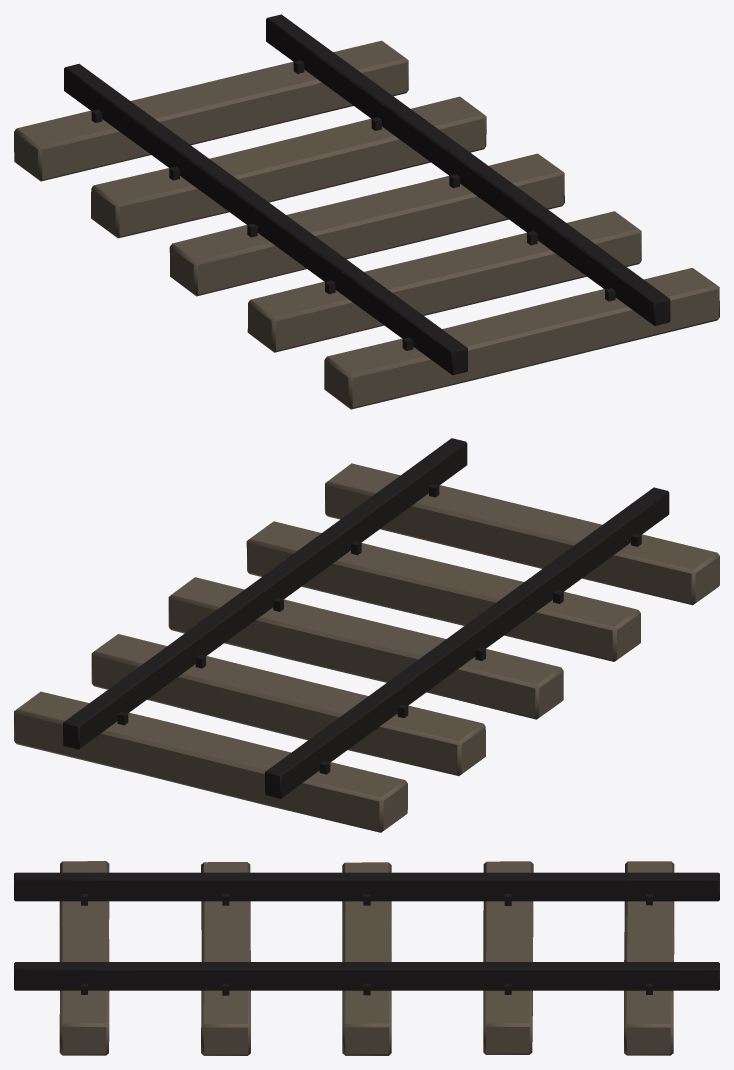
File: schienen.glb
3 renders of one model, top to bottom at view 1: azimuth 30°, elevation 25°; view 2: azimuth 150°, elevation 25°; view 3: azimuth 270°, elevation 25°, orthographic. The views are drawn at different scales.
Visible parts, largest first — view 1: schienen; view 2: schienen; view 3: schienen.
Boxes of the visible parts, box(x1,y1,x2,y2) form: schienen: box(14, 14, 719, 409); schienen: box(14, 438, 719, 832); schienen: box(14, 861, 719, 1055).
Bounding box in the file's own units: 1.1 × 0.1723 × 2.
